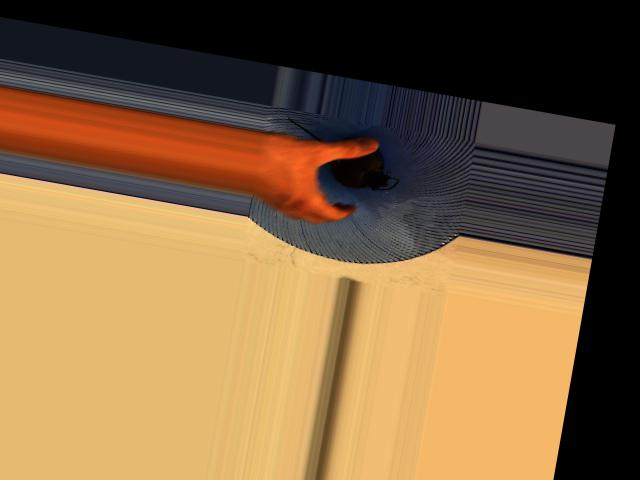beet: (279, 117, 406, 195)
